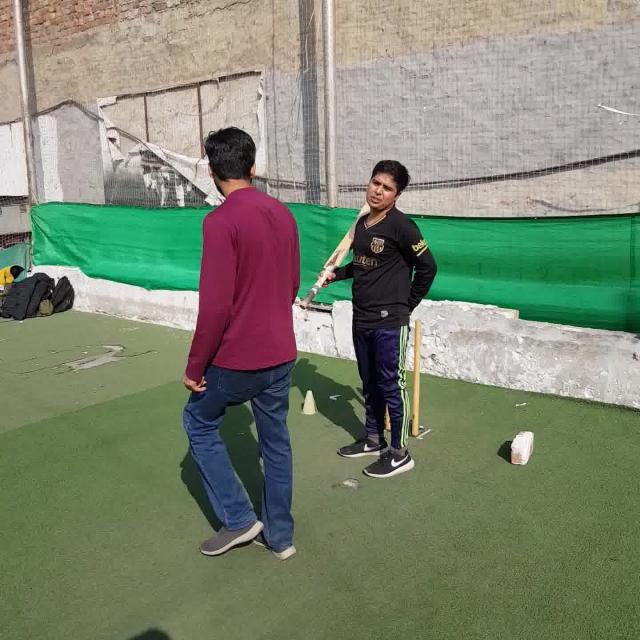bat: (298, 203, 371, 310)
